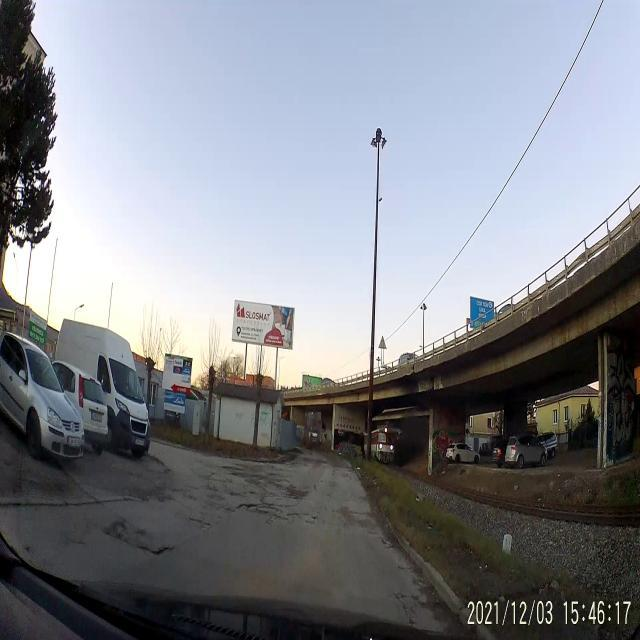Manhole: (258, 506, 276, 516)
Pothole: (139, 542, 182, 558), (187, 513, 212, 533), (236, 500, 262, 516)
